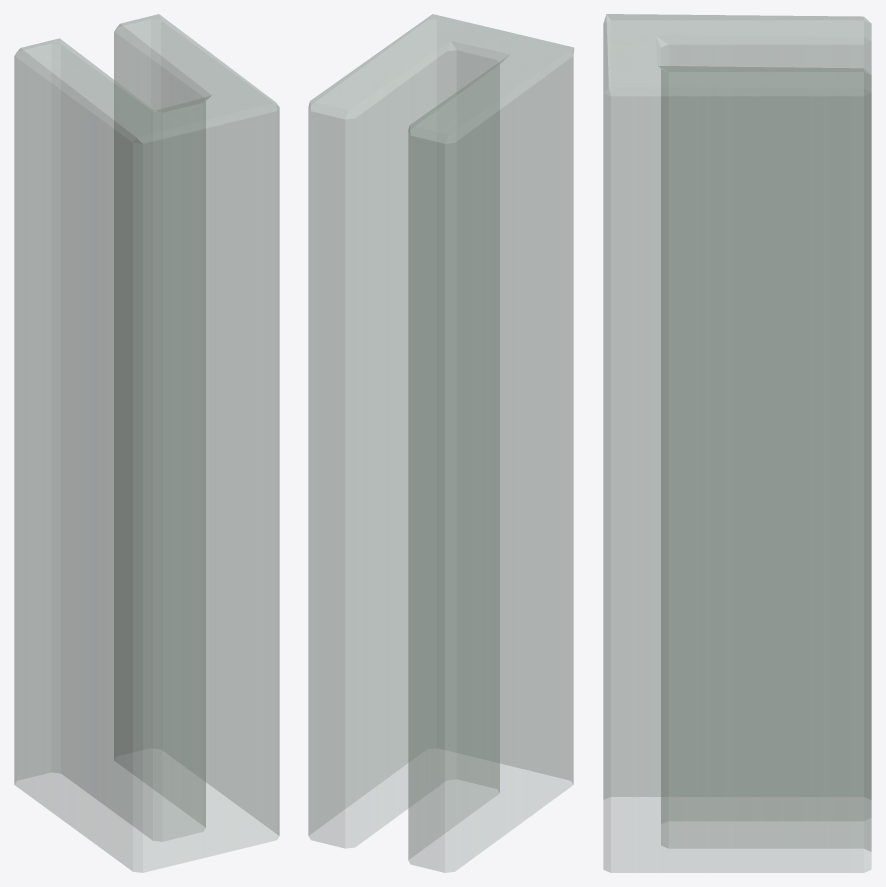
3 renders of one model, left to right at view 1: azimuth 30°, elevation 25°; view 2: azimuth 150°, elevation 25°; view 3: azimuth 270°, elevation 25°, orthographic. The views are drawn at different scales.
Parts seen in each view (by area): view 1: U; view 2: U; view 3: U.
Part boxes in pixels (box(x1,y1,x2,y2)): U: box(14, 14, 279, 872); U: box(308, 14, 574, 872); U: box(603, 14, 871, 872).
Size of the model in its own units: 0.4042 by 1.94 by 0.6019.
1 material, 1 textured.
